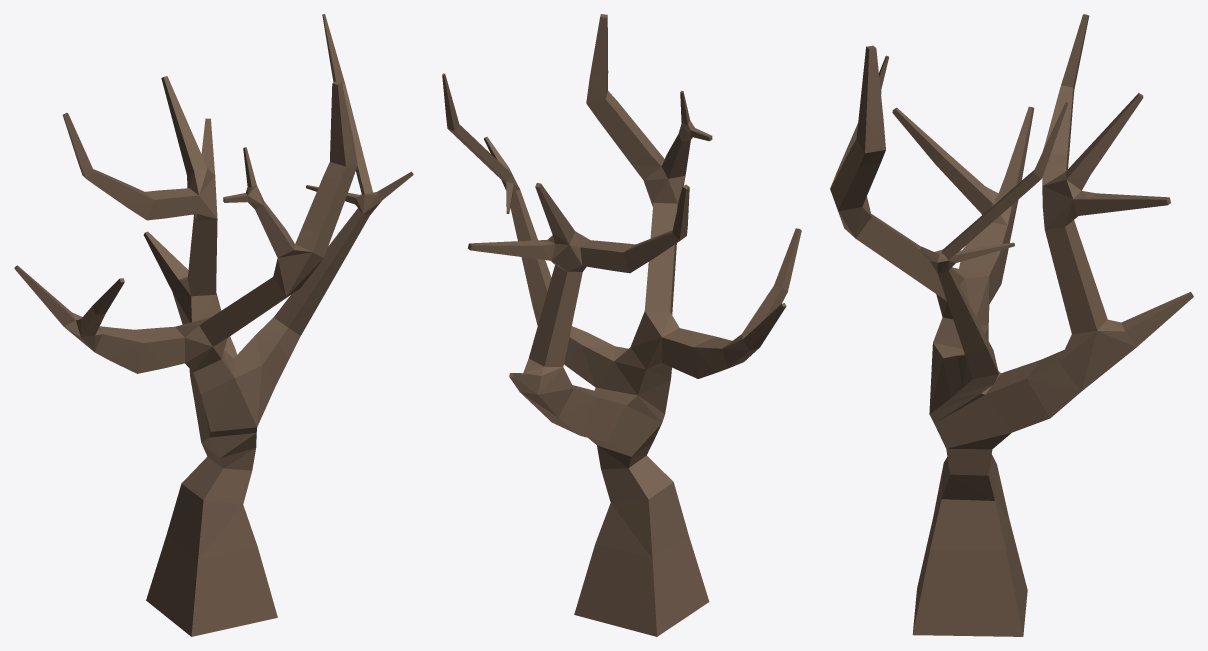
Rendered from dead_tree.fbx.
The picture shows the model from 3 angles, left to right: view 1: azimuth 30°, elevation 25°; view 2: azimuth 150°, elevation 25°; view 3: azimuth 270°, elevation 25°; orthographic projection. The views are drawn at different scales.
Parts seen in each view (by area): view 1: dead_tree; view 2: dead_tree; view 3: dead_tree.
Part boxes in pixels (x1,y1,x2,y2): dead_tree: (14,14,413,636); dead_tree: (442,14,801,636); dead_tree: (830,14,1193,636).
Bounding box in the file's own units: 696 × 1024 × 553.
